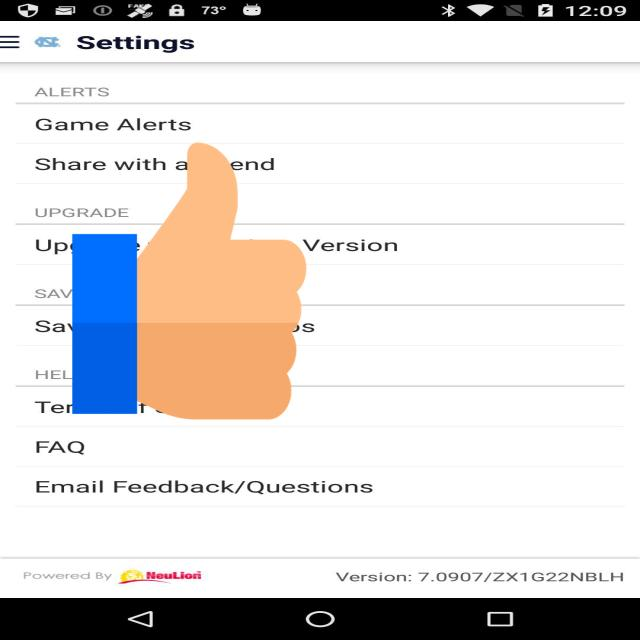privacy zuckering: (72, 136, 306, 426)
